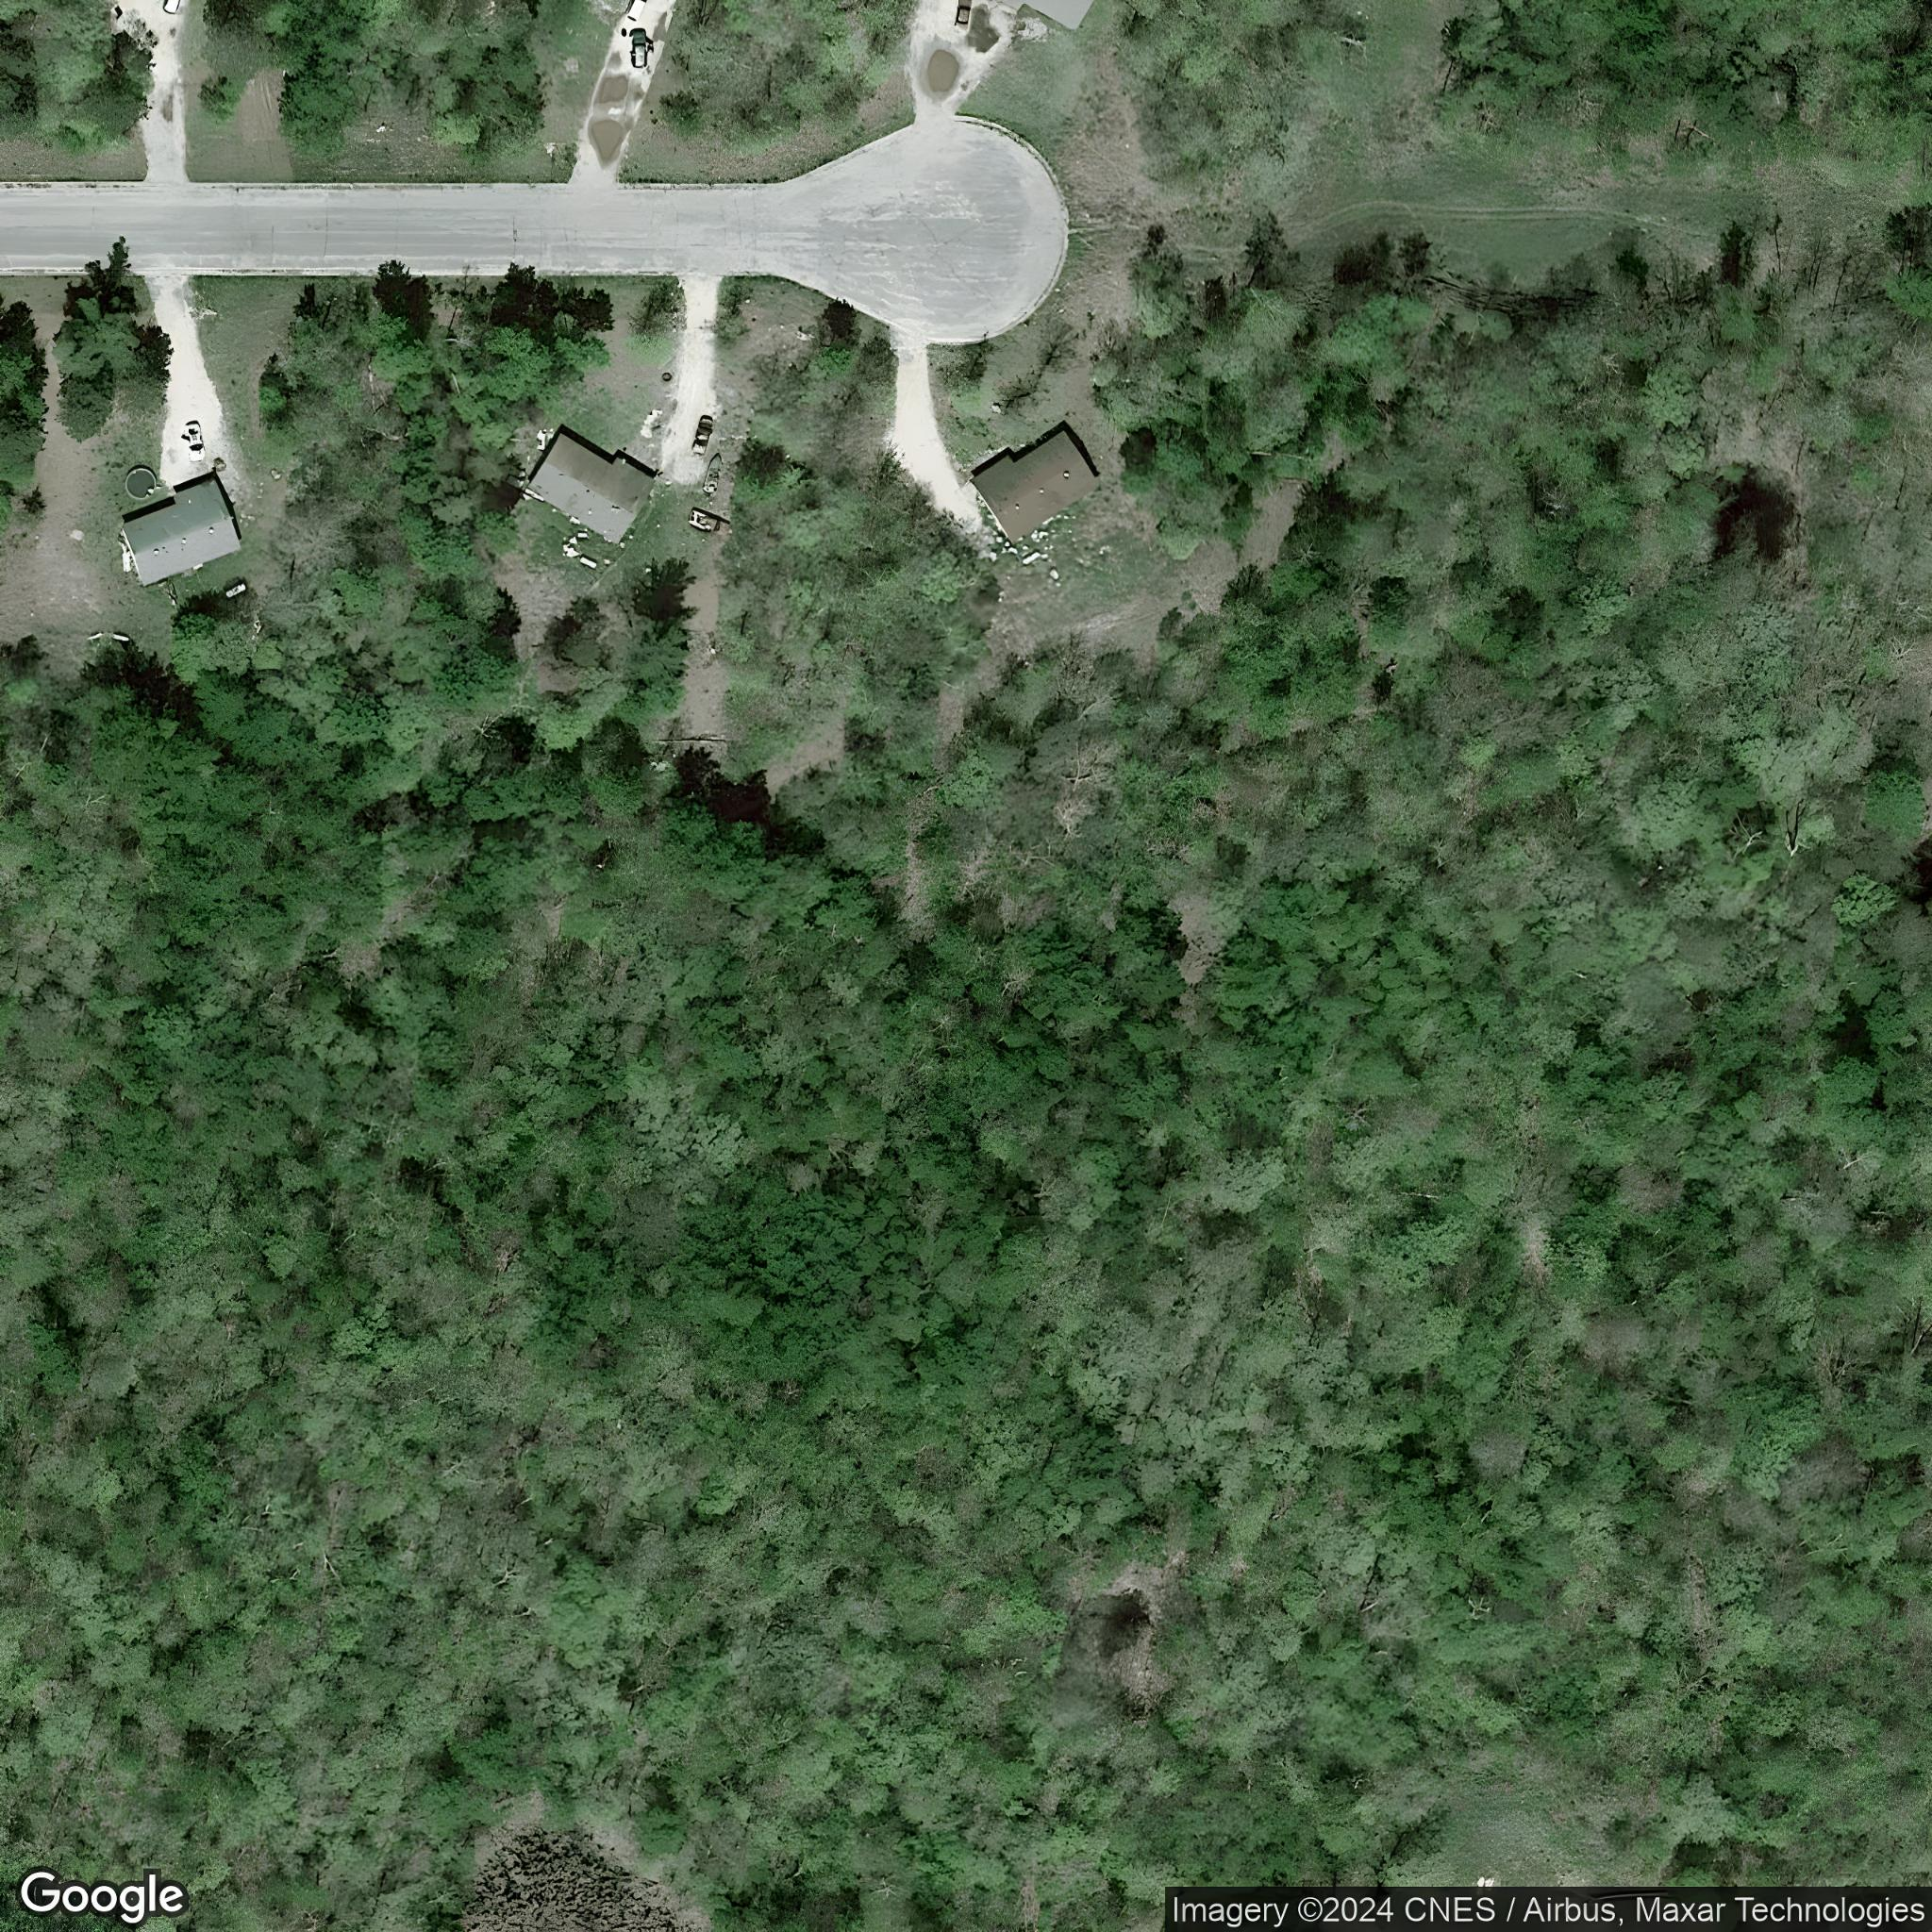House: (524, 430, 658, 547), (970, 428, 1099, 547), (119, 478, 244, 589), (1023, 0, 1093, 30)
Propane: (221, 579, 251, 602), (1019, 547, 1044, 568), (577, 552, 600, 573)
